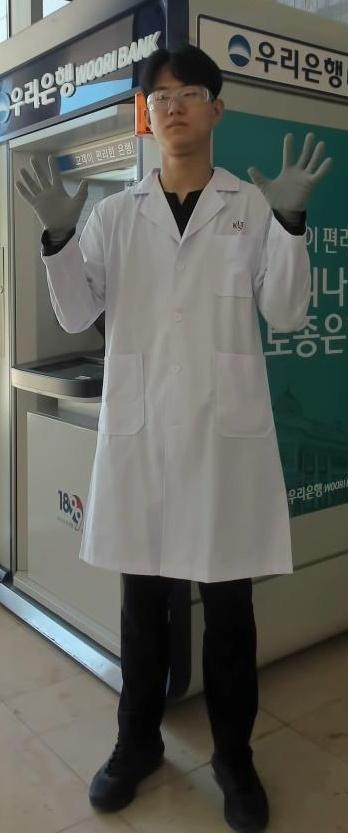lab_coat: (93, 187, 257, 585)
